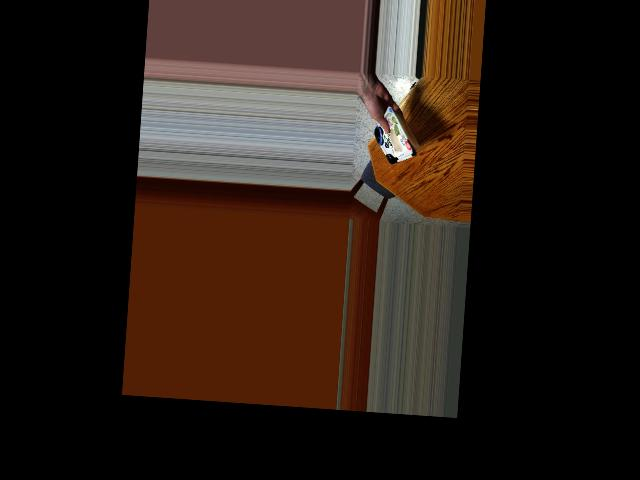cheese: (370, 109, 430, 170)
